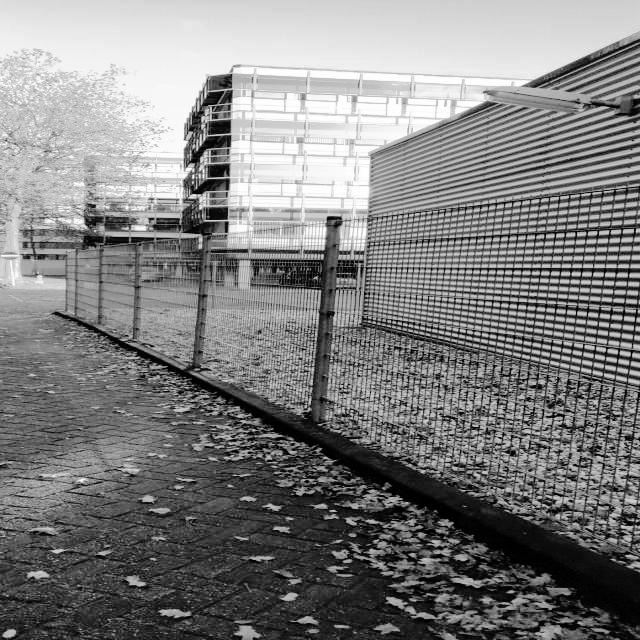fences: (337, 217, 640, 542), (138, 228, 325, 447), (65, 248, 128, 339)
